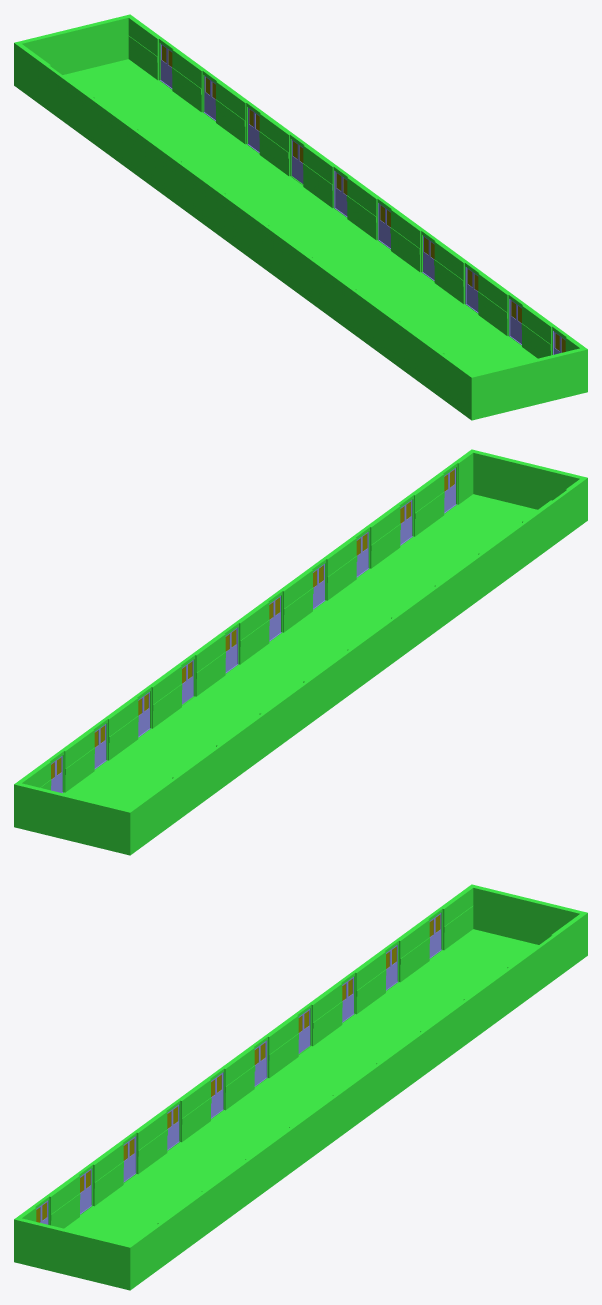
File: lujuria.fbx
The picture shows the model from 3 angles, top to bottom: view 1: azimuth 30°, elevation 25°; view 2: azimuth 150°, elevation 25°; view 3: azimuth 330°, elevation 25°; orthographic projection.
Visible parts, largest first — view 1: Box016; view 2: Box016; view 3: Box016.
Part boxes in pixels (box(x1,y1,x2,y2)): Box016: box(14, 14, 587, 420); Box016: box(14, 449, 587, 855); Box016: box(14, 884, 587, 1290).
Size of the model in its own units: 311 by 110 by 2123.
